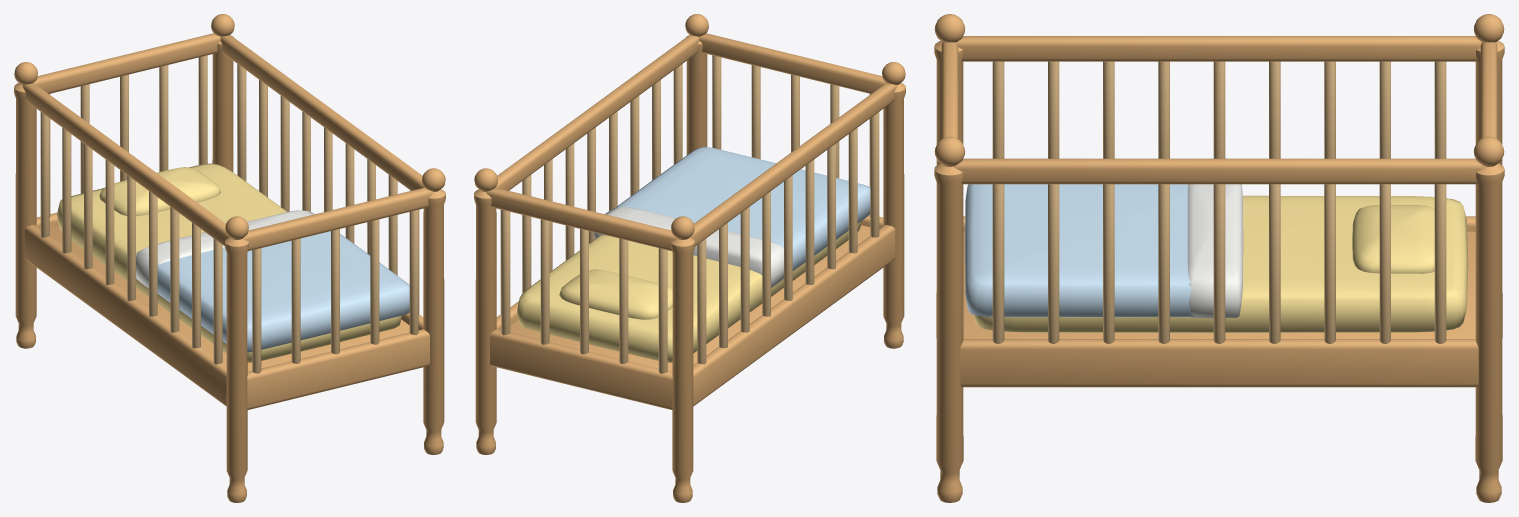
File: berco_classico_madeira.glb
3 views of the same model, side by side, from view 1: azimuth 30°, elevation 25°; view 2: azimuth 150°, elevation 25°; view 3: azimuth 270°, elevation 25° (orthographic). The views are drawn at different scales.
Visible parts, largest first — view 1: berco_classico_madeira; view 2: berco_classico_madeira; view 3: berco_classico_madeira.
Part boxes in pixels (<box>): berco_classico_madeira: <box>14,14,445,502</box>; berco_classico_madeira: <box>474,14,905,502</box>; berco_classico_madeira: <box>934,14,1504,502</box>.
Bounding box in the file's own units: 0.7755 × 0.9593 × 1.38.
Materials: 1 (1 with a texture image).
